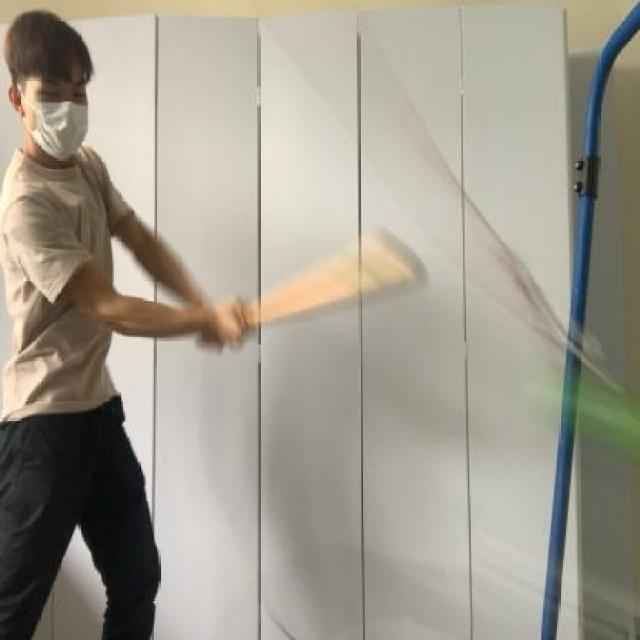baseball: (514, 356, 640, 458)
